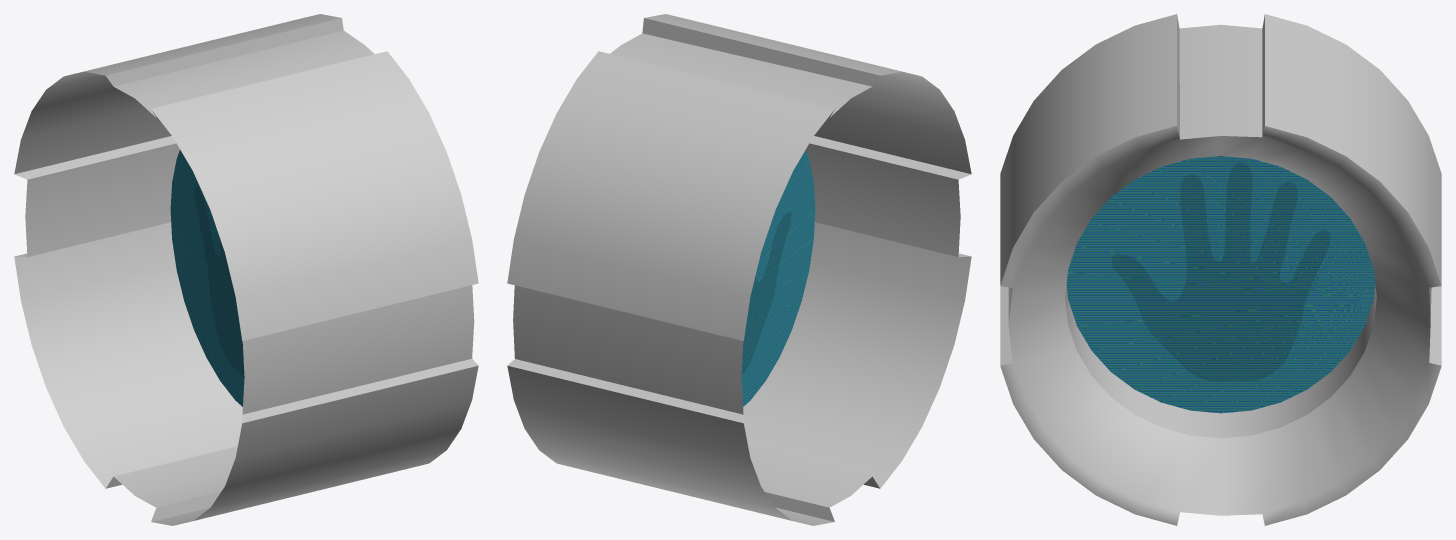
Rendered from butiuoin.fbx.
3 views of the same model, side by side, from view 1: azimuth 30°, elevation 25°; view 2: azimuth 150°, elevation 25°; view 3: azimuth 270°, elevation 25° (orthographic). The views are drawn at different scales.
Parts seen in each view (by area): view 1: buttion screemed; view 2: buttion screemed; view 3: buttion screemed.
Boxes of the visible parts, left/top/right/bottom form: buttion screemed: left=14, top=14, right=478, bottom=525; buttion screemed: left=507, top=14, right=971, bottom=525; buttion screemed: left=1000, top=14, right=1441, bottom=525.
Size of the model in its own units: 15 by 25 by 25.
